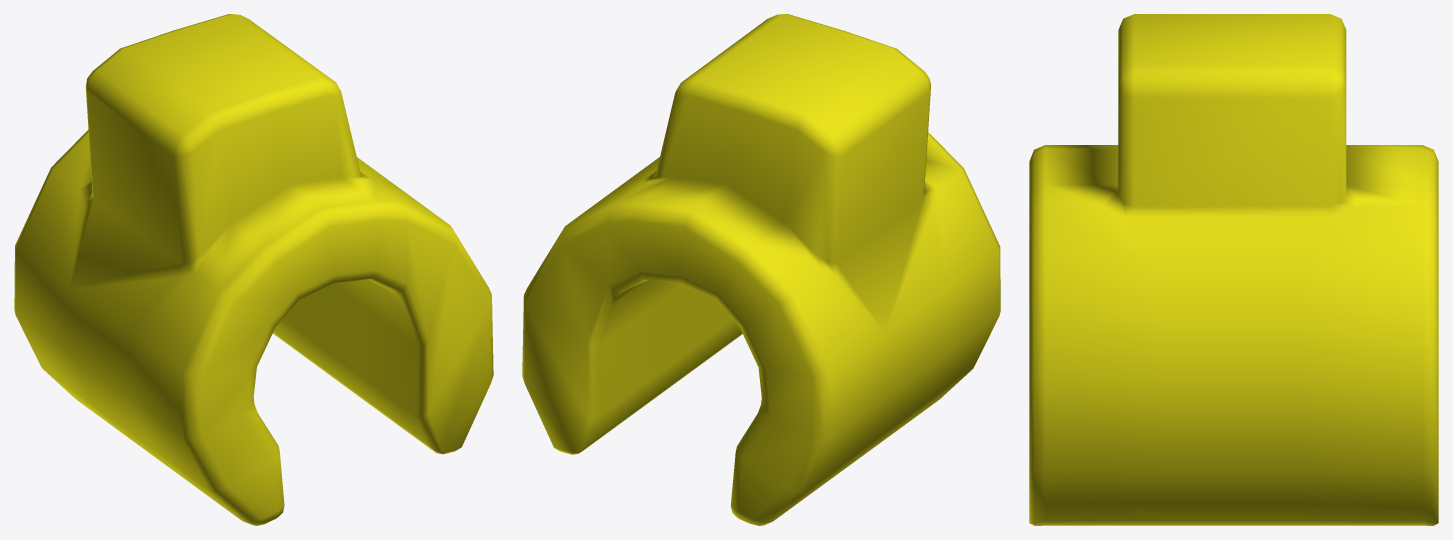
The model's file is lego hand.fbx.
3 views of the same model, side by side, from view 1: azimuth 30°, elevation 25°; view 2: azimuth 150°, elevation 25°; view 3: azimuth 270°, elevation 25° (orthographic). The views are drawn at different scales.
Visible parts, largest first — view 1: Cube; view 2: Cube; view 3: Cube.
Part boxes in pixels (x1,y1,x2,y2): Cube: [14, 14, 493, 525]; Cube: [522, 14, 1000, 525]; Cube: [1029, 14, 1438, 525].
Size of the model in its own units: 58.83 by 71.72 by 59.87.
